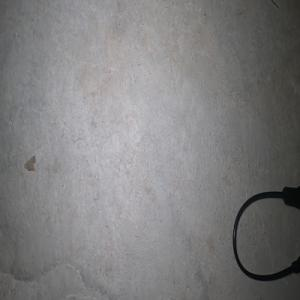Wire: (232, 185, 300, 281)
